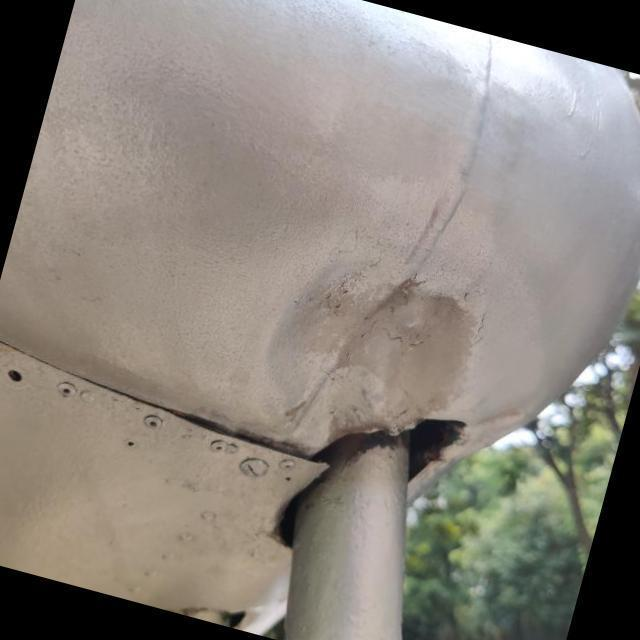Dent: (216, 213, 515, 508), (451, 382, 539, 461)
